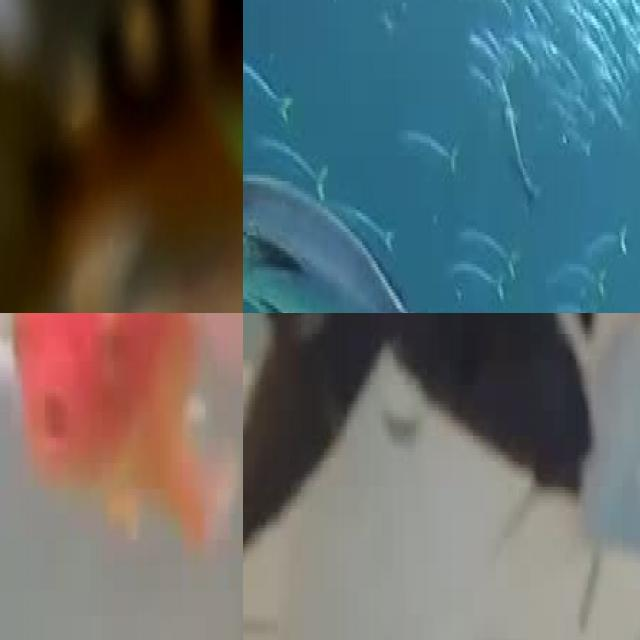fish: (0, 0, 243, 313), (243, 165, 488, 313)
